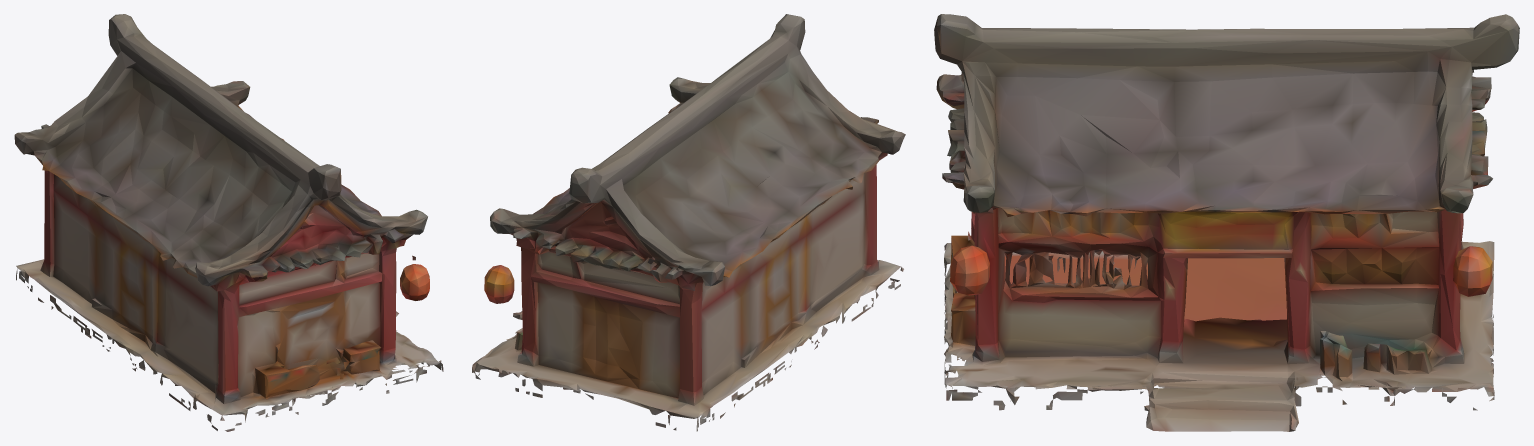
File: bq_teashop.vc.glb
The picture shows the model from 3 angles, left to right: view 1: azimuth 30°, elevation 25°; view 2: azimuth 150°, elevation 25°; view 3: azimuth 270°, elevation 25°; orthographic projection. The views are drawn at different scales.
Visible parts, largest first — view 1: bq_teashop; view 2: bq_teashop; view 3: bq_teashop.
Boxes of the visible parts, bbox=[...] form: bq_teashop: bbox=[14, 14, 443, 431]; bq_teashop: bbox=[472, 14, 905, 431]; bq_teashop: bbox=[934, 14, 1519, 431].
Bounding box in the file's own units: 1.42 × 1.2 × 2.
